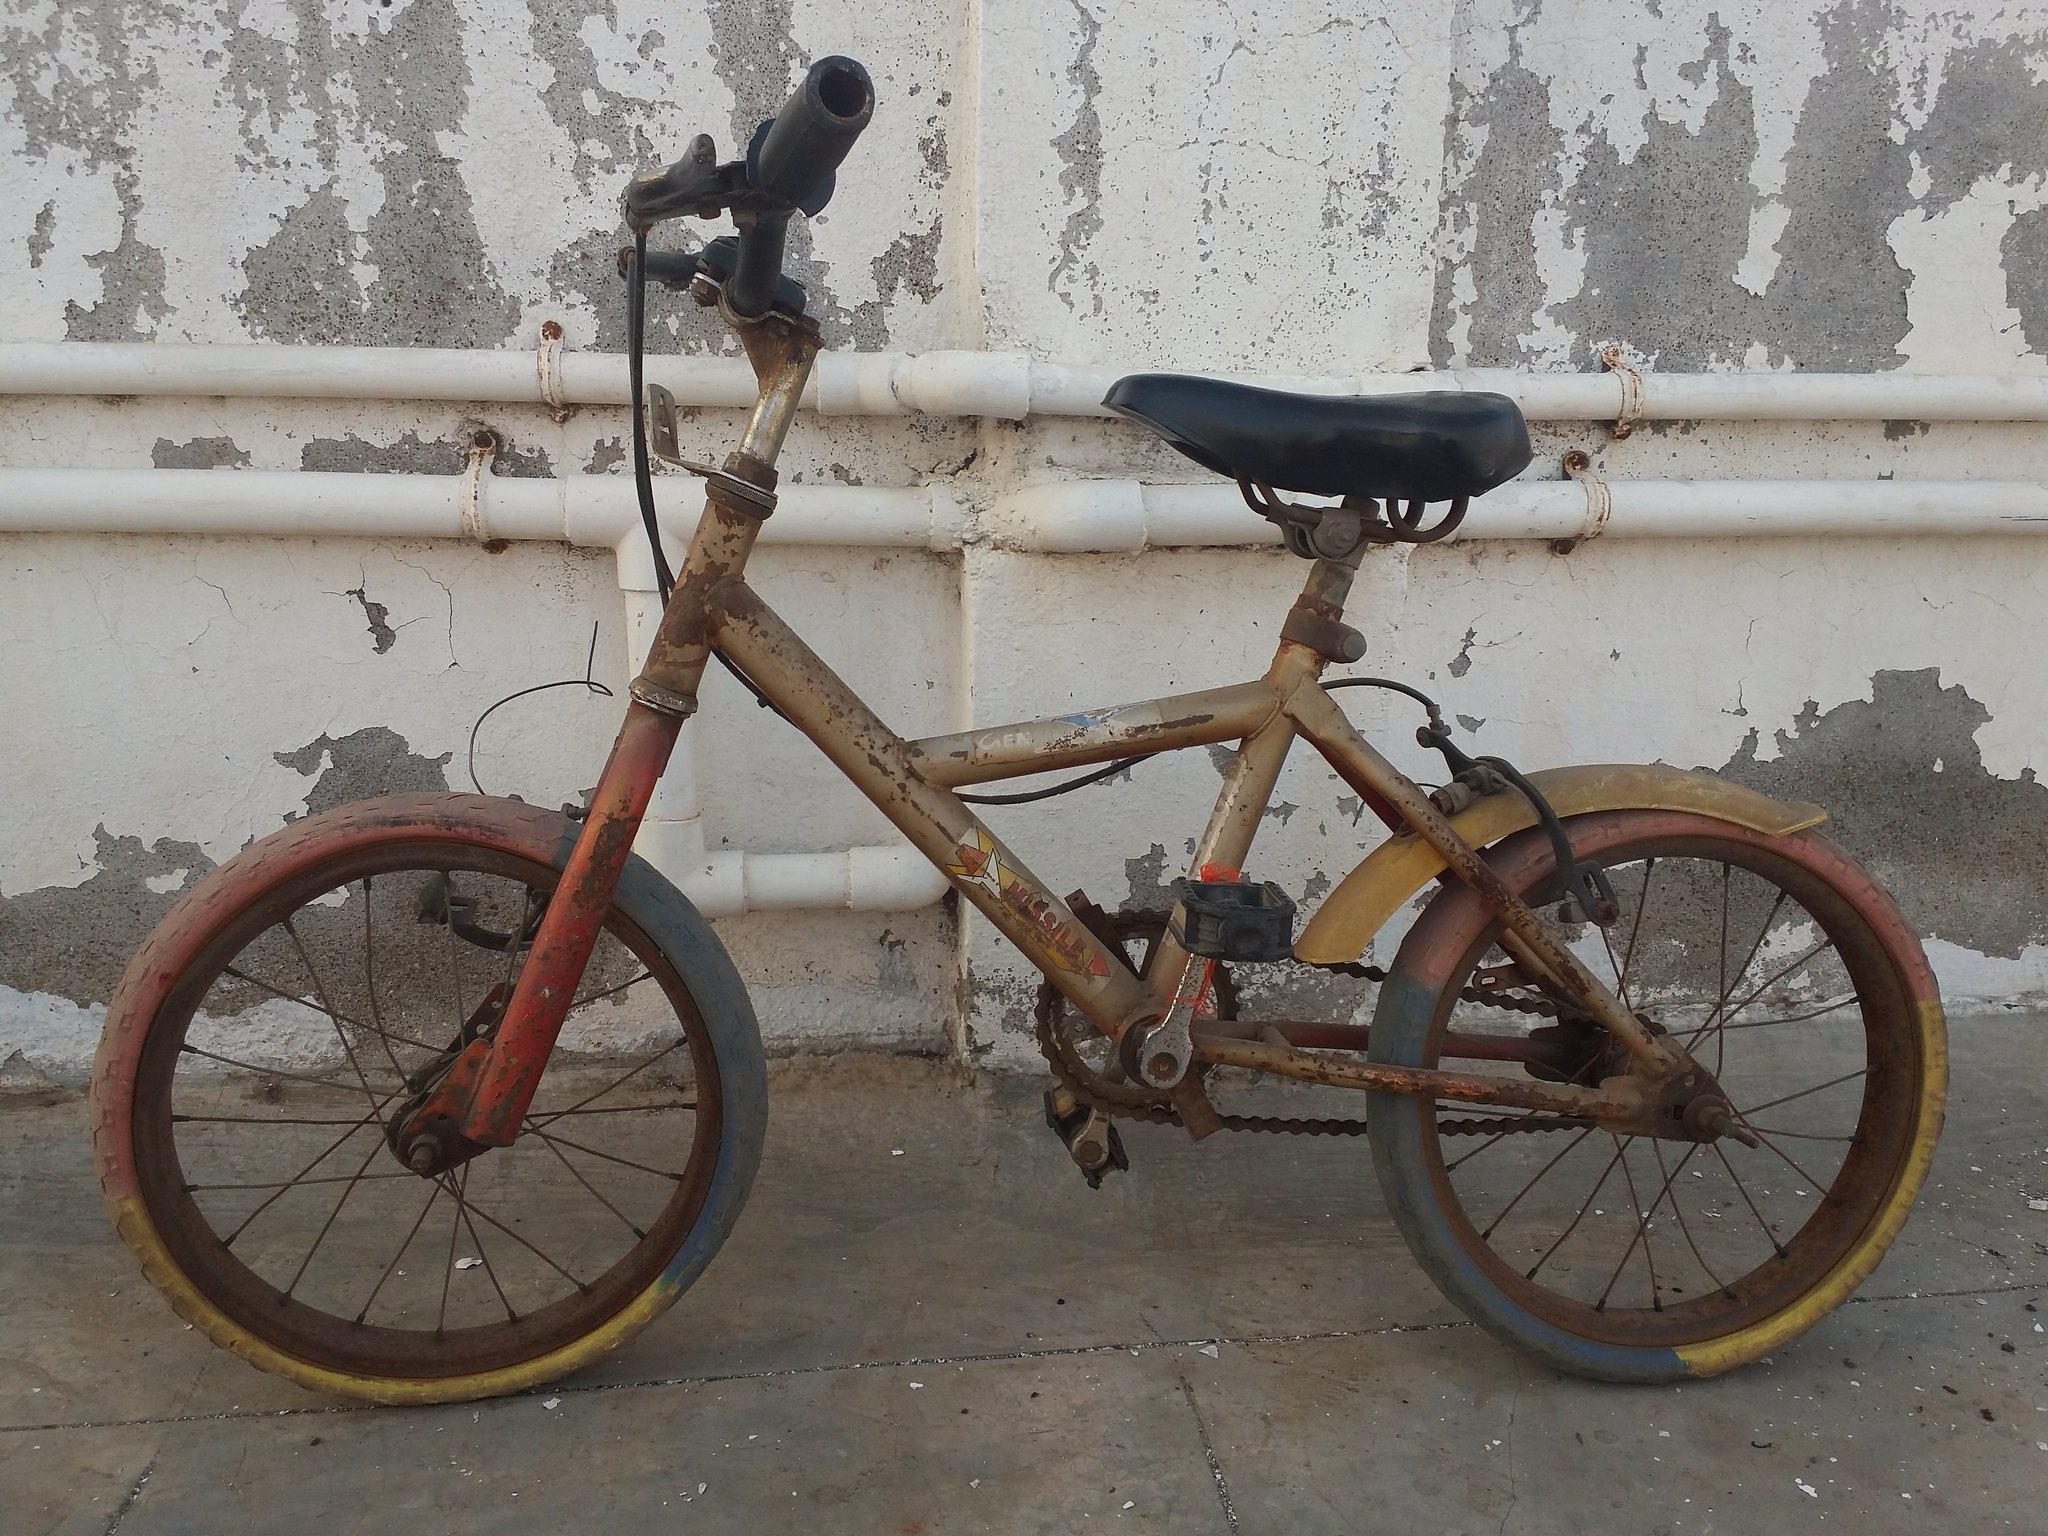bicycle: (73, 65, 1992, 1368)
